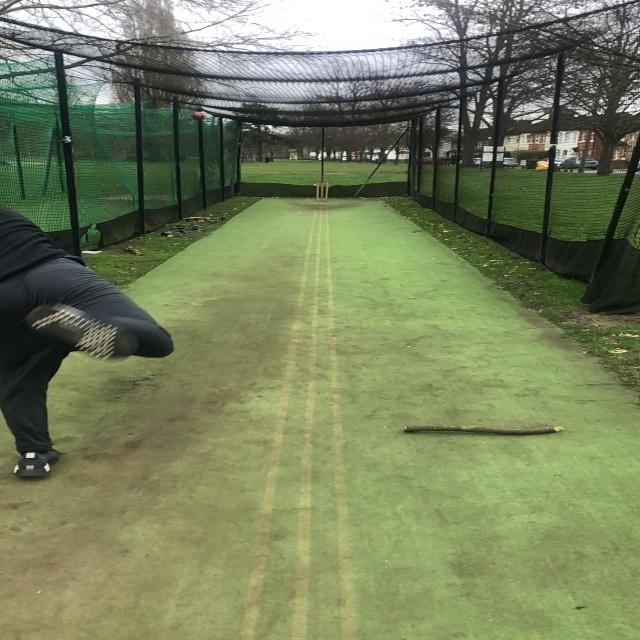ball: (192, 111, 207, 120)
